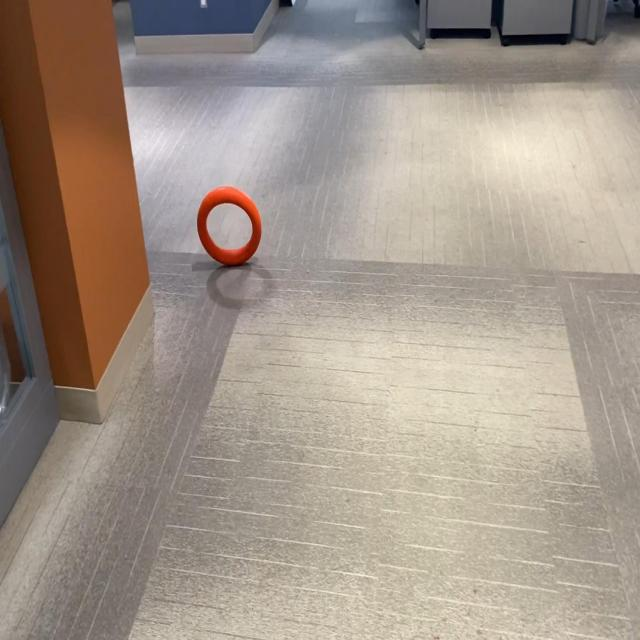note: (196, 182, 263, 268)
